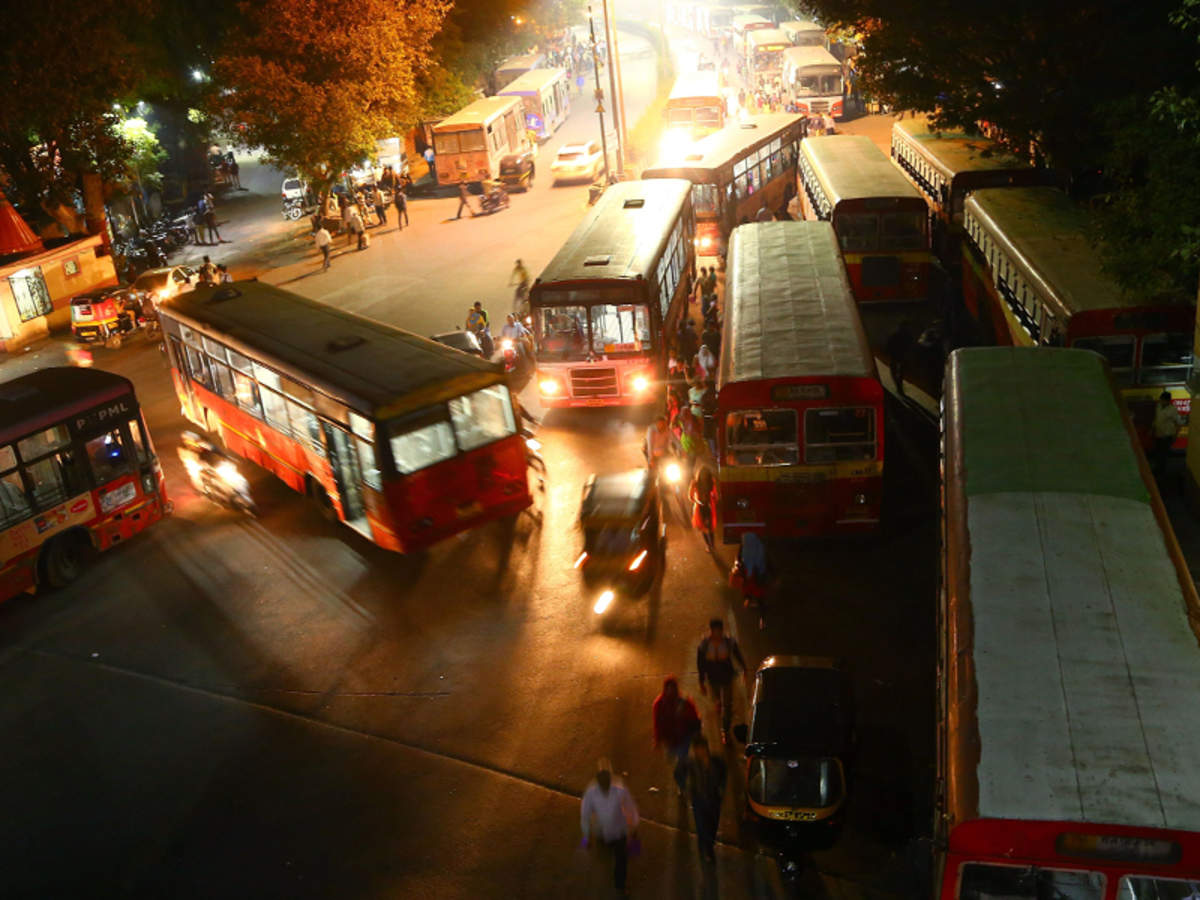bus: (921, 351, 1200, 900), (152, 294, 544, 538), (709, 213, 886, 542), (6, 354, 149, 587), (552, 180, 699, 404), (797, 137, 942, 288), (434, 89, 523, 188)
rickshaw: (725, 648, 870, 882), (565, 459, 670, 604)
